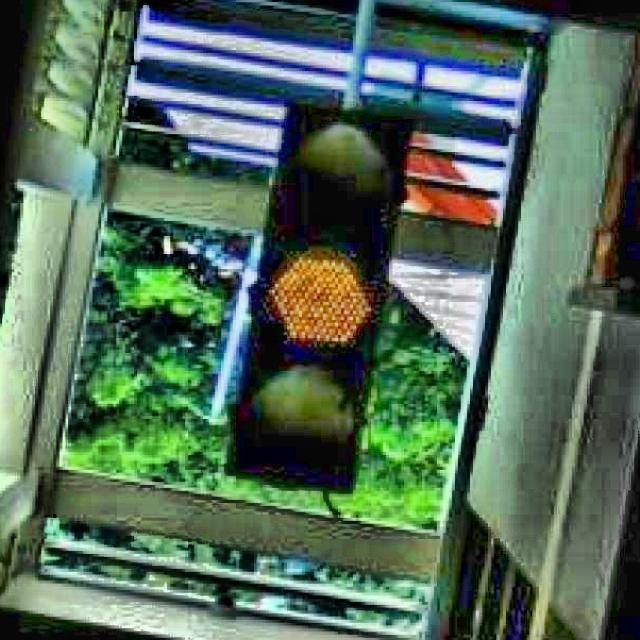yellow: (225, 103, 393, 492)
